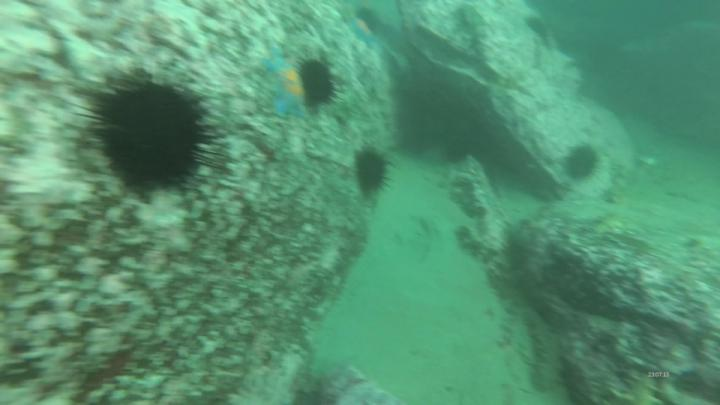echinus: (92, 71, 216, 199), (352, 145, 391, 200), (300, 56, 338, 110), (562, 141, 602, 184)
starfish: (262, 48, 313, 119), (348, 17, 381, 54)
